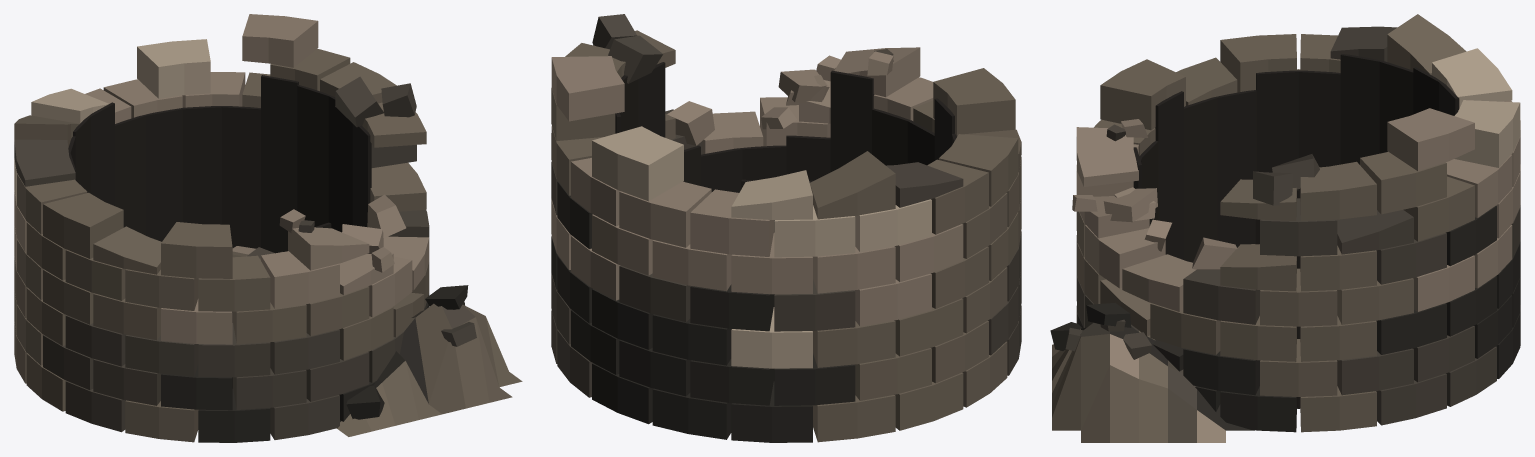
The model's file is AraTow02a.glb.
The picture shows the model from 3 angles, left to right: view 1: azimuth 30°, elevation 25°; view 2: azimuth 150°, elevation 25°; view 3: azimuth 270°, elevation 25°; orthographic projection. The views are drawn at different scales.
Visible parts, largest first — view 1: AraTow02a_rub2; view 2: AraTow02a_rub2; view 3: AraTow02a_rub2.
Boxes of the visible parts, x1,y1,x2,y2 form: AraTow02a_rub2: [14, 14, 522, 442]; AraTow02a_rub2: [551, 14, 1021, 442]; AraTow02a_rub2: [1050, 14, 1520, 442].
Bounding box in the file's own units: 4.11 × 2.67 × 4.12.
